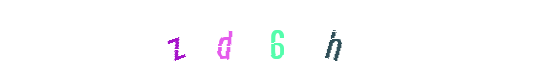6: (247, 0, 327, 80)
D: (230, 0, 310, 80)
H: (293, 0, 373, 80)
Z: (165, 0, 245, 80)
